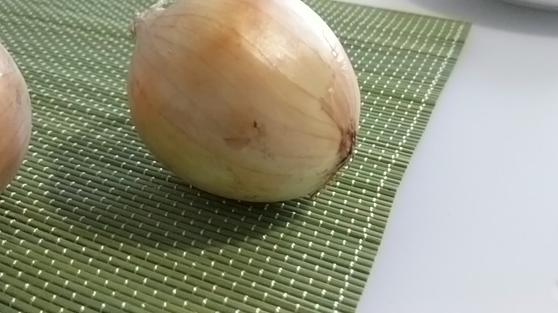onion: (128, 1, 359, 201)
